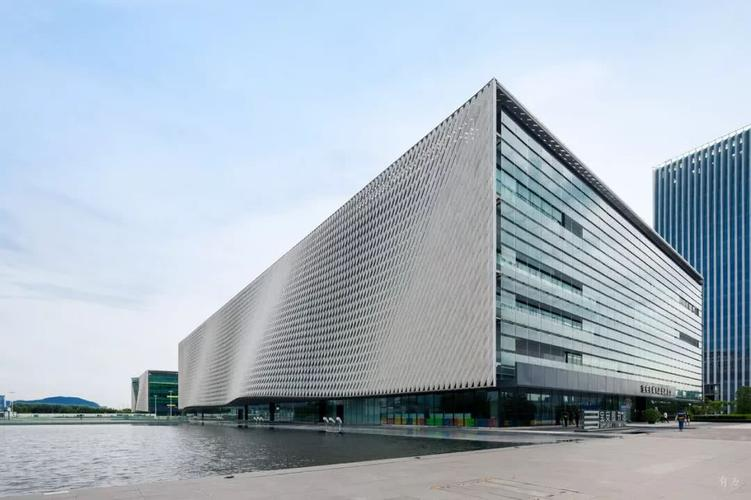buildings: (132, 95, 705, 432), (636, 117, 750, 434)
